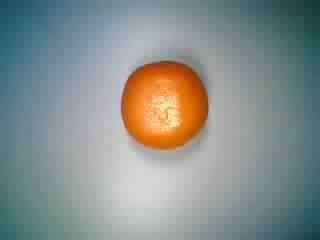orange: (114, 54, 210, 150)
